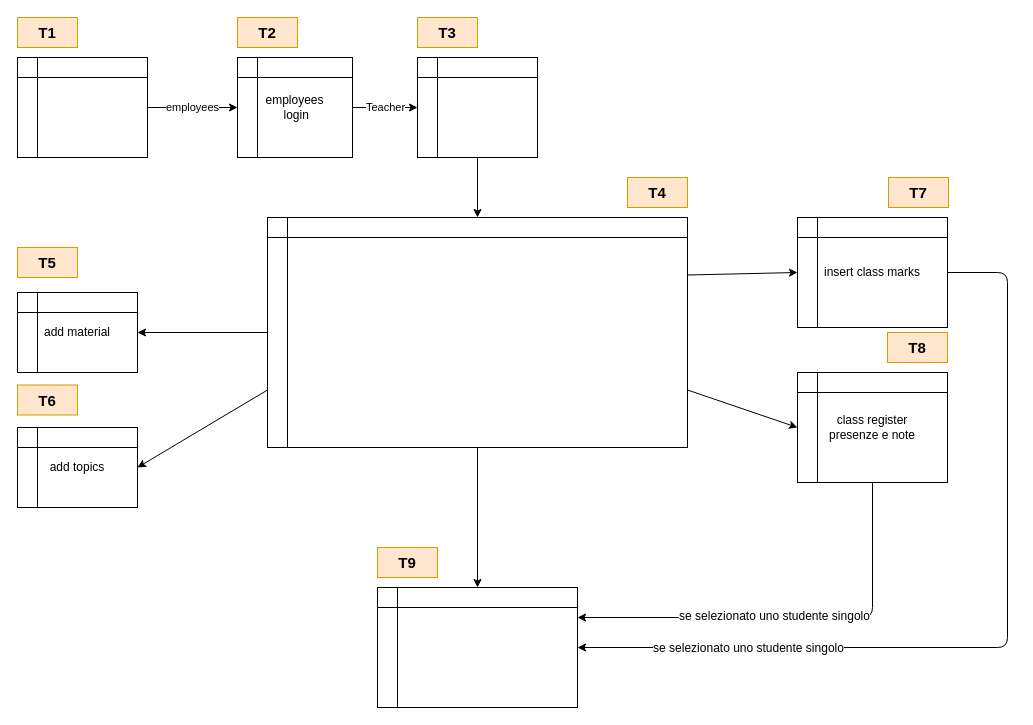
This 1033x725 diagram has some shape labels left out. The shapes that lost their labels are listed below. From the top down, each one's centre as x and y in pixels, then its label:
At pixel 82 107: "home choice of login".
At pixel 477 107: "list of teacher's courses (course&class)".
At pixel 477 332: "bottoni che portano di qua e di la".
At pixel 477 647: "pop up o pagina per singolo studente".
